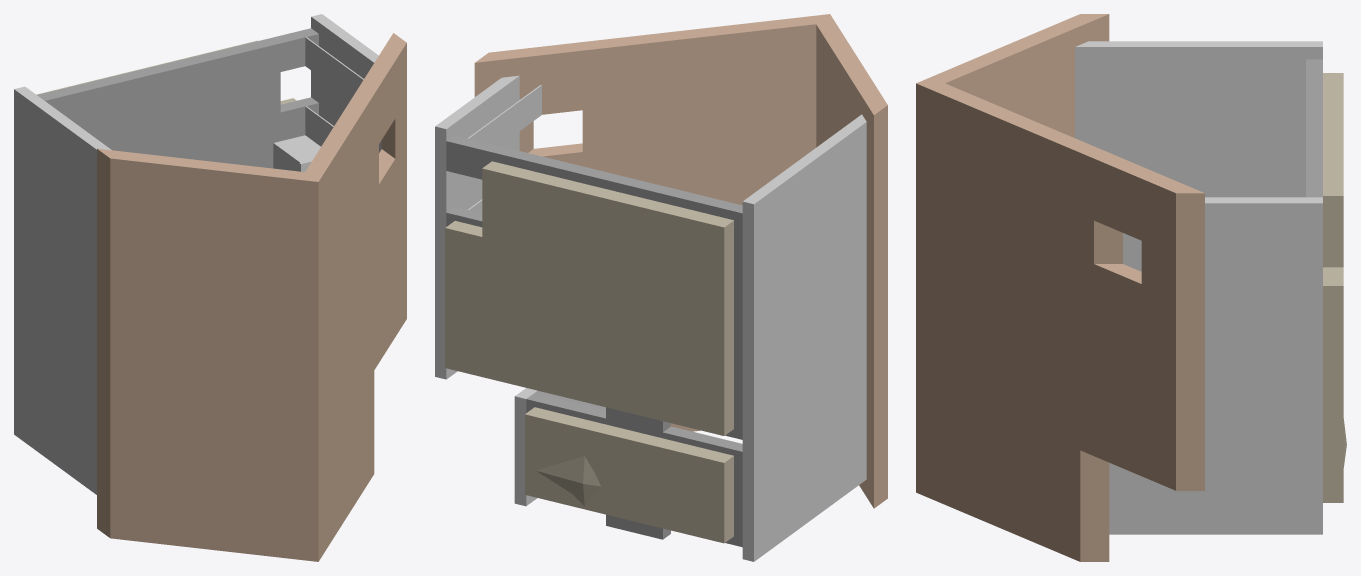
File: sample-model.glb
The picture shows the model from 3 angles, left to right: view 1: azimuth 30°, elevation 25°; view 2: azimuth 150°, elevation 25°; view 3: azimuth 270°, elevation 25°; orthographic projection. The views are drawn at different scales.
Parts seen in each view (by area): view 1: geometry_0; view 2: geometry_0; view 3: geometry_0.
Part boxes in pixels (x1,y1,x2,y2): geometry_0: (14,14,406,561); geometry_0: (435,14,887,561); geometry_0: (916,14,1346,561).
Size of the model in its own units: 6.2 by 6.6 by 6.3.
